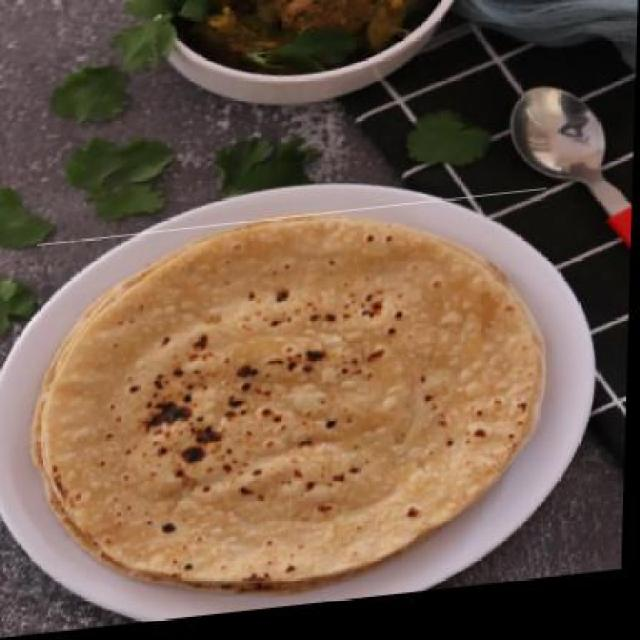chapati: (30, 201, 550, 622)
